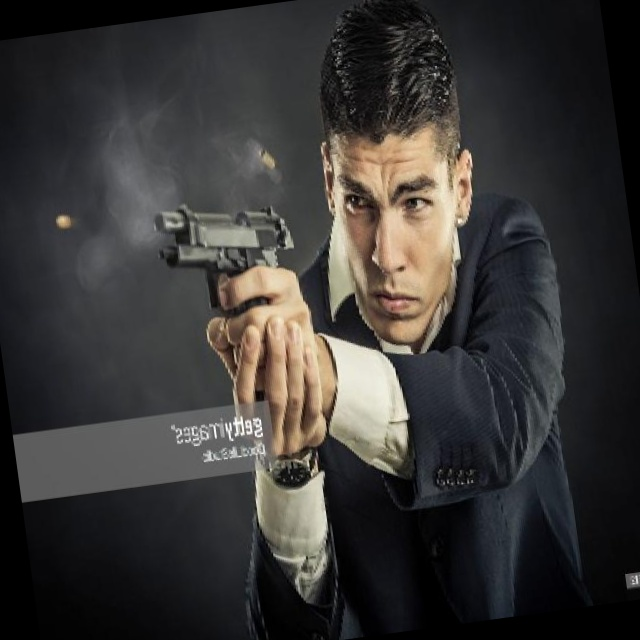gun: (149, 187, 309, 332)
